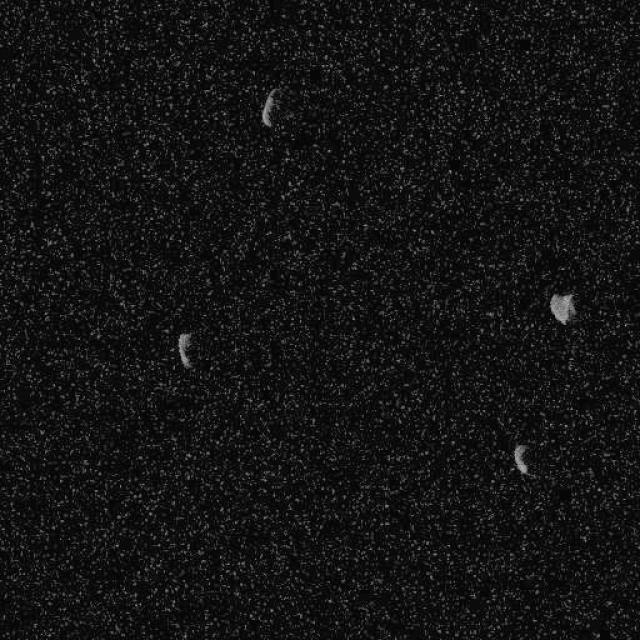D2: (549, 291, 576, 325), (260, 86, 280, 128), (176, 331, 194, 369), (512, 442, 530, 477)
